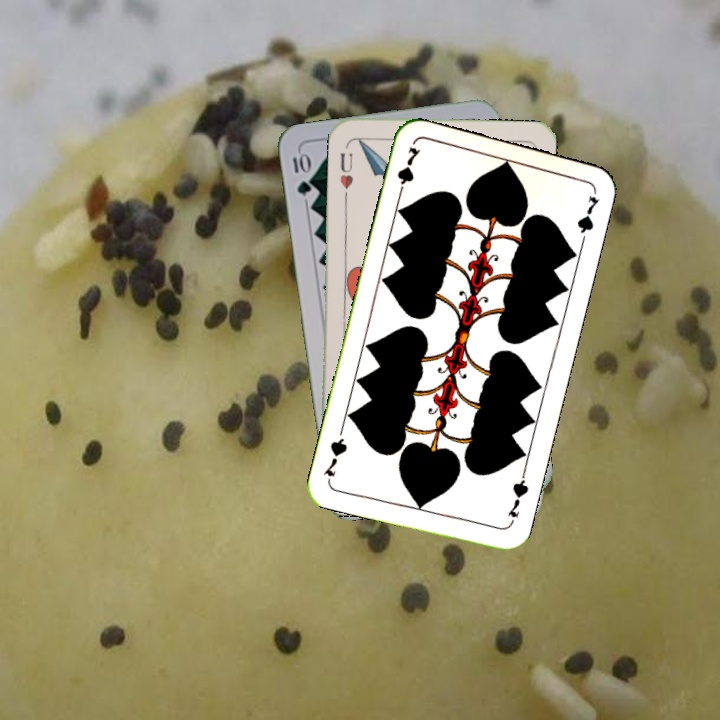G10: (288, 149, 314, 198)
G7: (393, 143, 423, 201), (503, 469, 532, 528)
HU: (336, 149, 356, 191)
